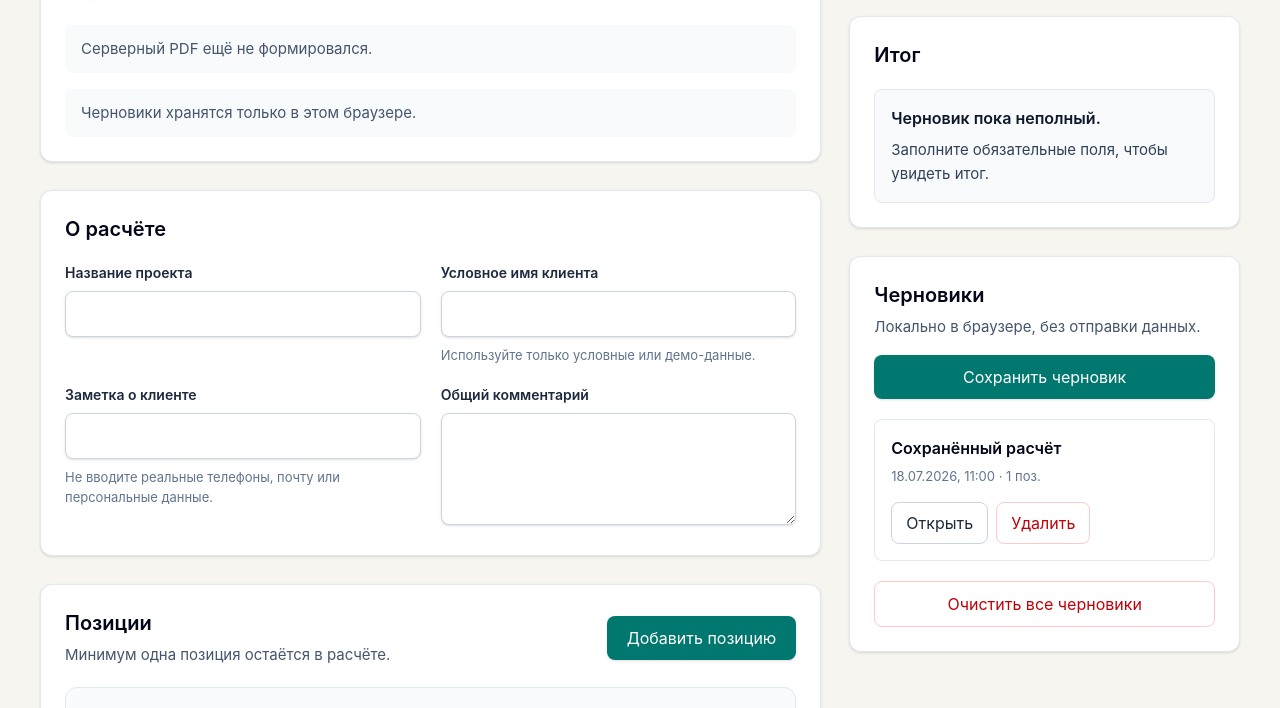
it: QuoteFlow UI › deletes one draft
(page scrolled)
Click the button "Удалить" below "18.07.2026, 11:00".
click(1043, 523)  # box [996, 502, 1090, 544]
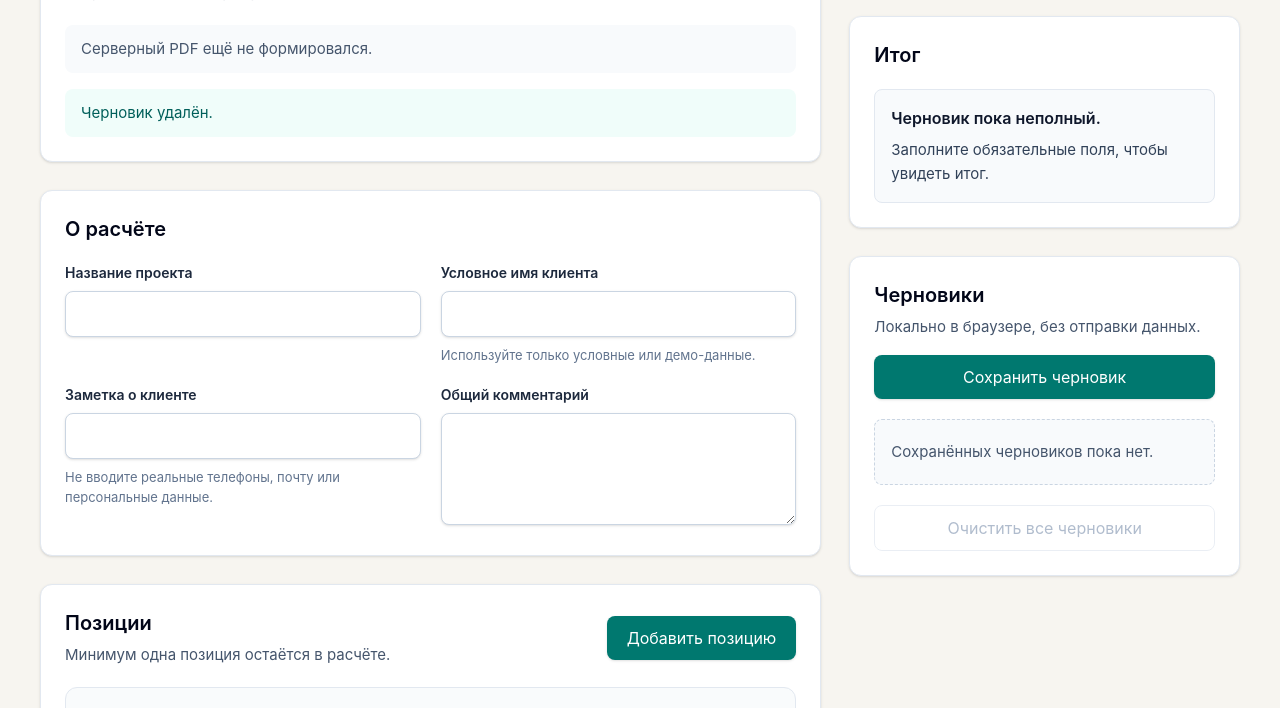
Now the heading "Сохранённый расчёт" is gone
Now the text "Сохранённых черновиков пока нет." is shown, box [874, 419, 1215, 485]
